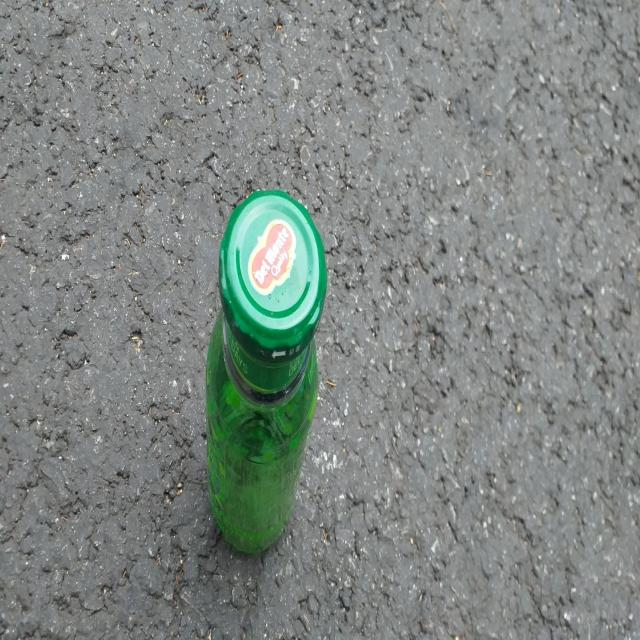glass: (206, 190, 327, 554)
